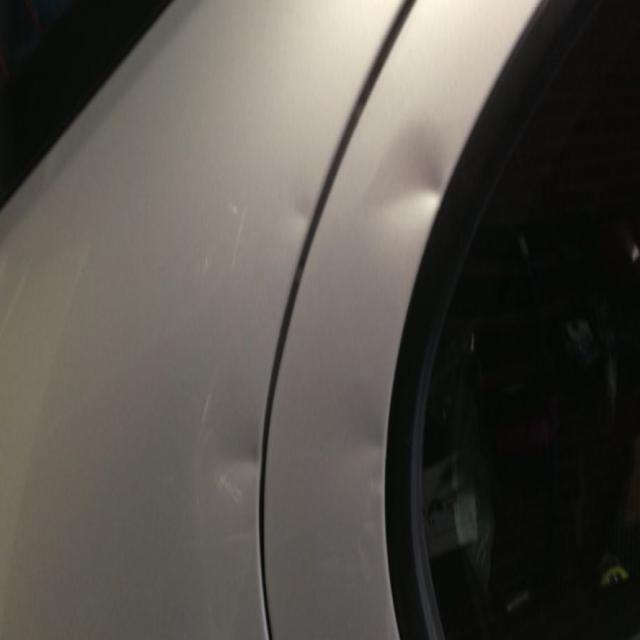dents: (376, 131, 460, 242), (208, 422, 284, 544), (278, 176, 323, 243)
